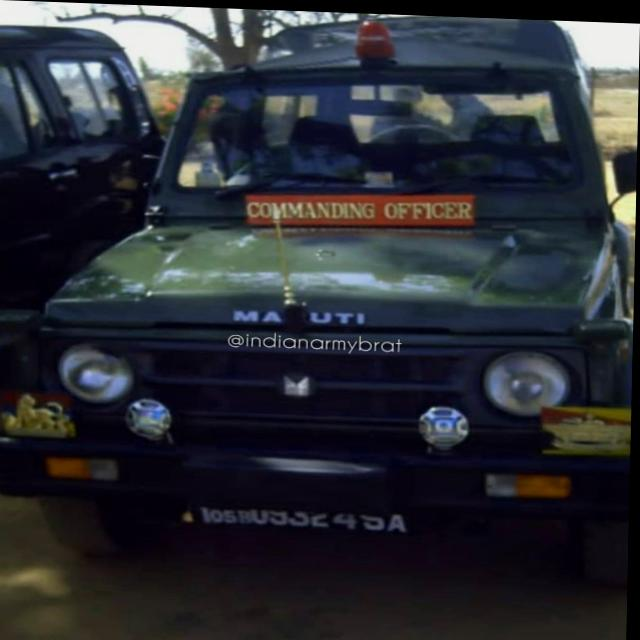0: (212, 508, 227, 522), (256, 508, 269, 523)
2: (314, 508, 331, 526)
3: (294, 507, 312, 526)
4: (336, 510, 360, 528)
5: (227, 508, 239, 522)
9: (273, 507, 289, 523)
a: (389, 511, 410, 532)
b: (241, 508, 253, 522)
s: (363, 511, 388, 528)
